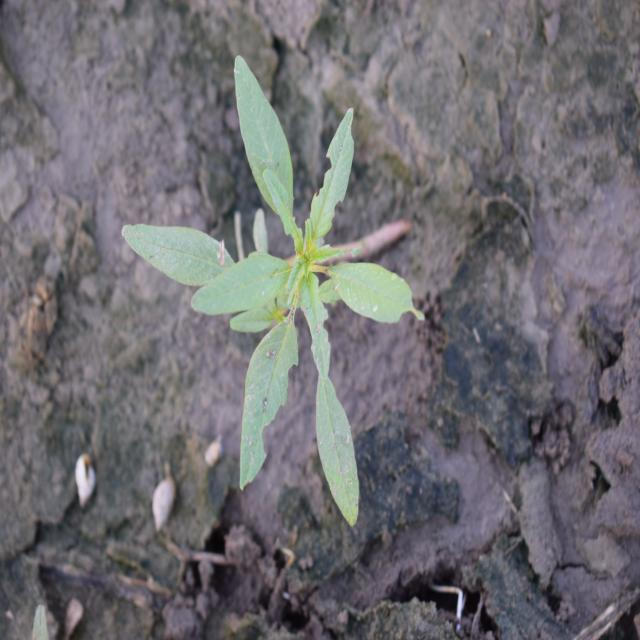Waterhemp: (119, 53, 427, 531)
